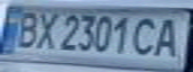0: (93, 12, 115, 53)
1: (109, 14, 136, 54)
2: (57, 10, 81, 52)
3: (75, 11, 96, 53)
A: (148, 15, 190, 58)
B: (9, 6, 45, 49)
C: (127, 15, 163, 56)
X: (30, 8, 63, 51)
